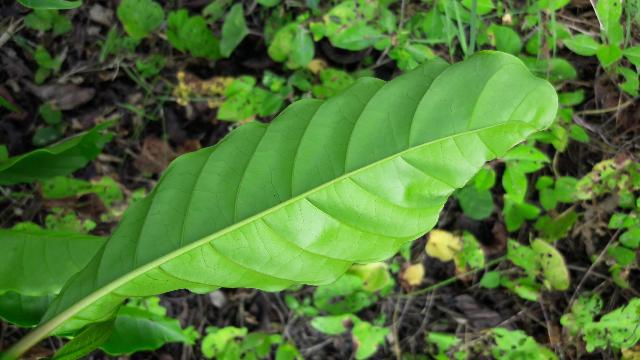healthy: (22, 52, 554, 345)
